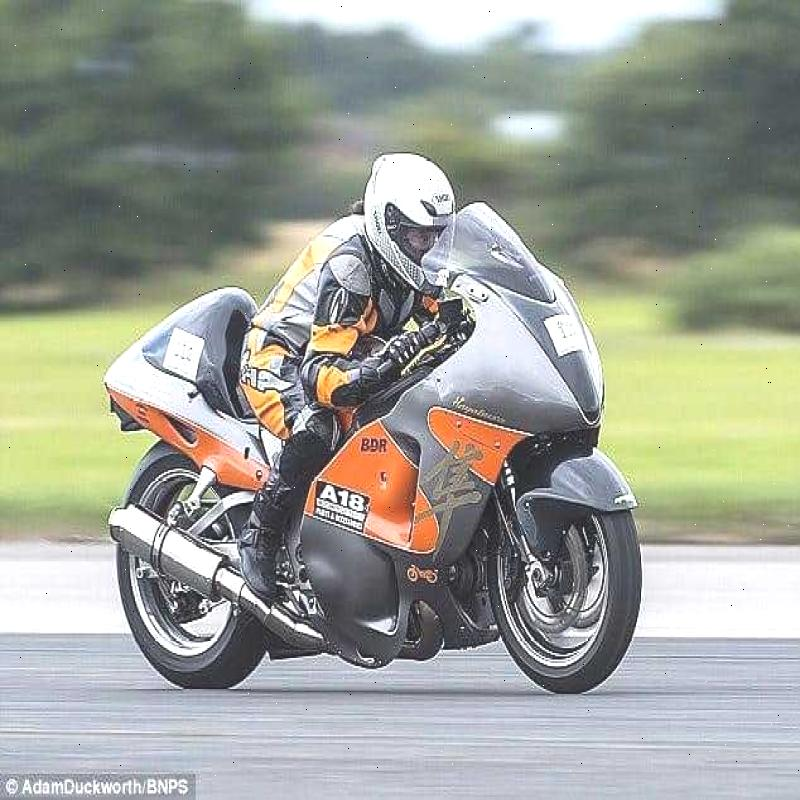bike: (76, 226, 713, 689)
